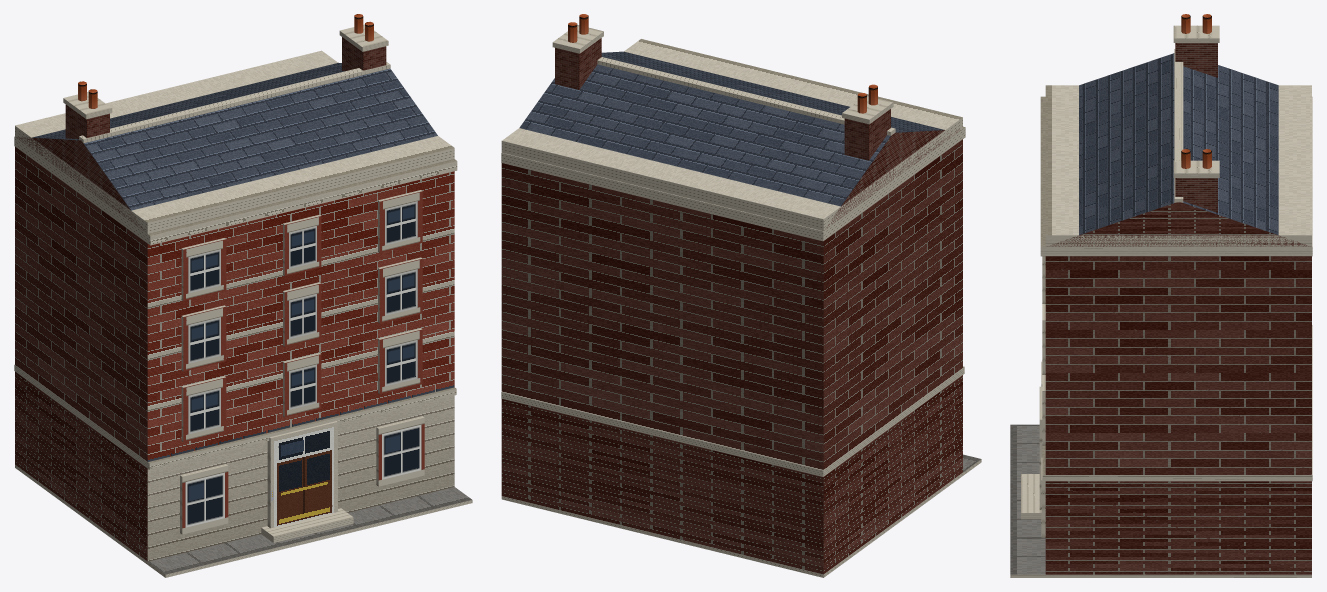
The model's file is building_london_flats_01.glb.
3 renders of one model, left to right at view 1: azimuth 30°, elevation 25°; view 2: azimuth 150°, elevation 25°; view 3: azimuth 270°, elevation 25°, orthographic. The views are drawn at different scales.
Parts seen in each view (by area): view 1: Building_London_Flats_01; view 2: Building_London_Flats_01; view 3: Building_London_Flats_01.
Part boxes in pixels (left/top/right/bottom): Building_London_Flats_01: left=14, top=14, right=472, bottom=577; Building_London_Flats_01: left=501, top=14, right=981, bottom=577; Building_London_Flats_01: left=1010, top=14, right=1312, bottom=577.
Bounding box in the file's own units: 10 × 13.04 × 8.52.
Materials: 1 (1 with a texture image).
